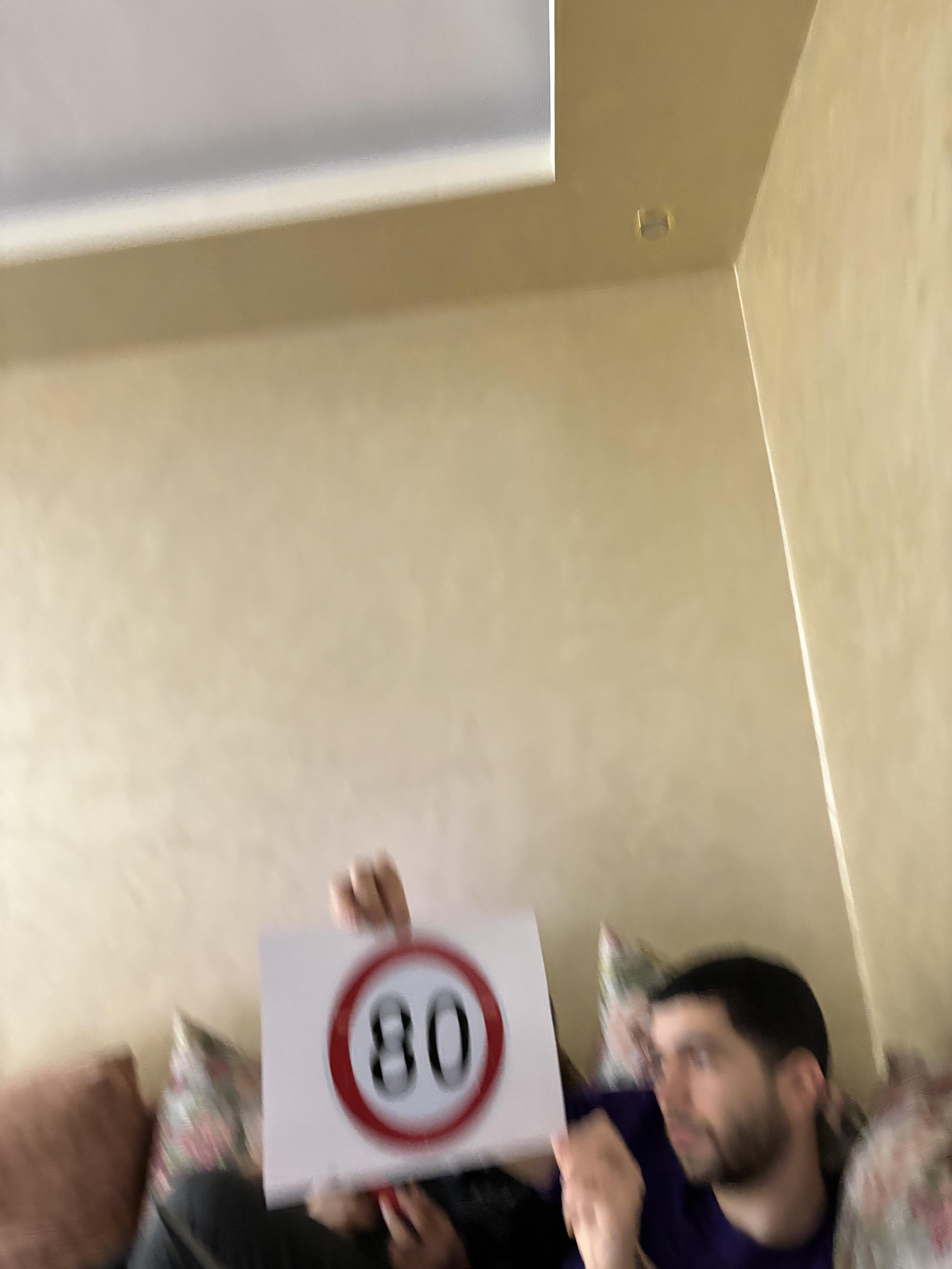80-Speed: (326, 938, 512, 1141)
